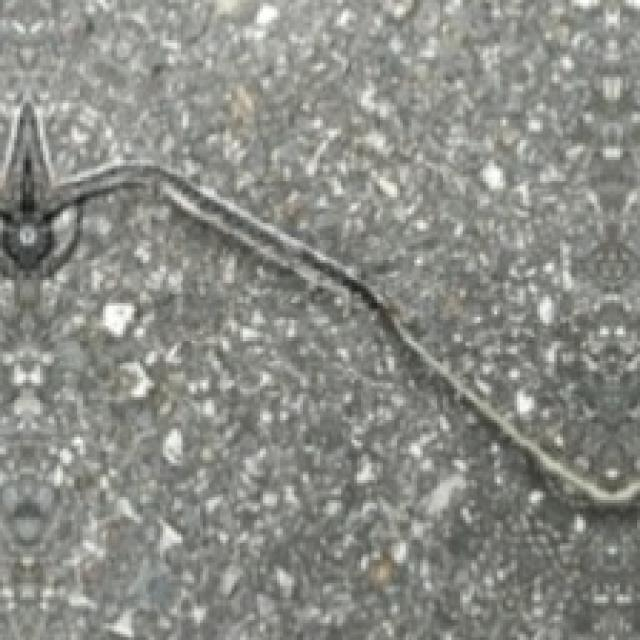king cobra: (0, 97, 637, 506)
